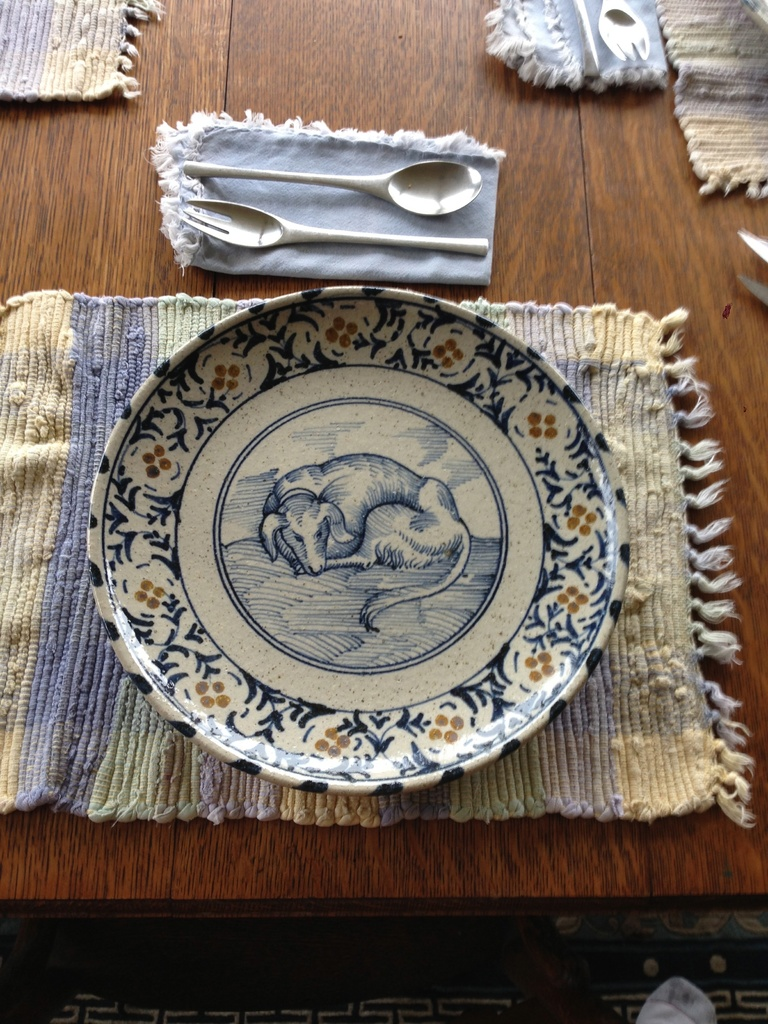plate: (79, 305, 633, 766)
